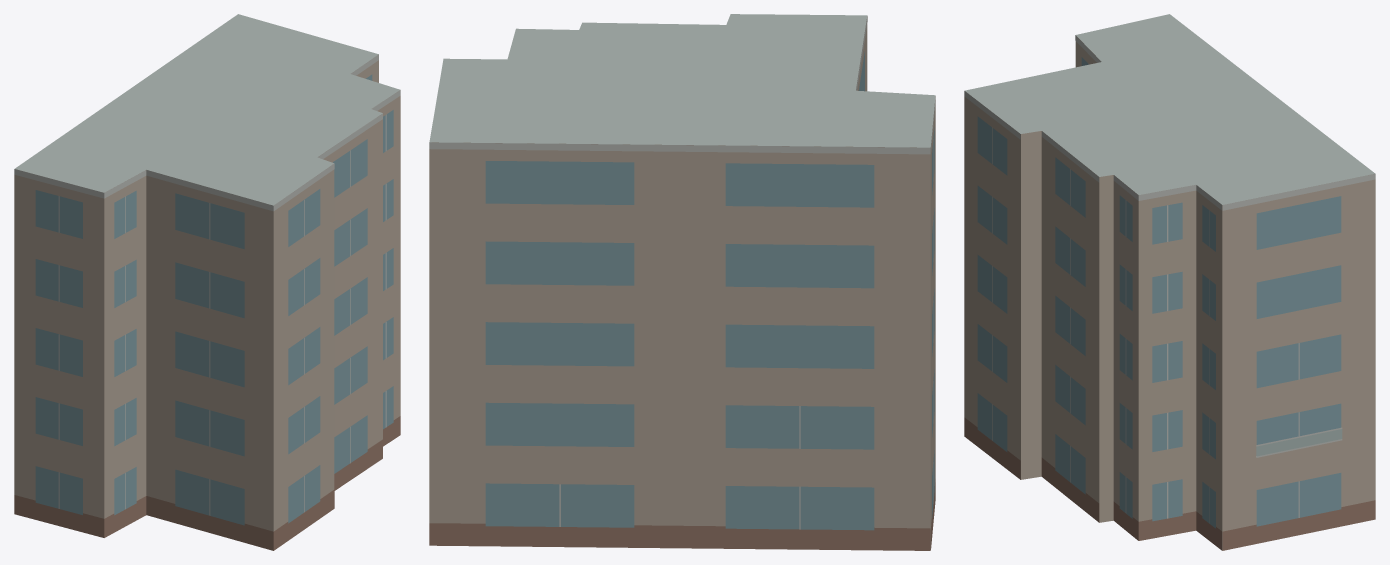
Rendered from survey-upis-32792653.glb.
3 renders of one model, left to right at view 1: azimuth 30°, elevation 25°; view 2: azimuth 150°, elevation 25°; view 3: azimuth 270°, elevation 25°, orthographic. The views are drawn at different scales.
Parts seen in each view (by area): view 1: survey-upis-32792653.tmp; view 2: survey-upis-32792653.tmp; view 3: survey-upis-32792653.tmp.
Part boxes in pixels (x1,y1,x2,y2): survey-upis-32792653.tmp: [14, 14, 400, 550]; survey-upis-32792653.tmp: [429, 14, 935, 550]; survey-upis-32792653.tmp: [964, 14, 1375, 550].
Bounding box in the file's own units: 17.19 × 14.5 × 15.63.
